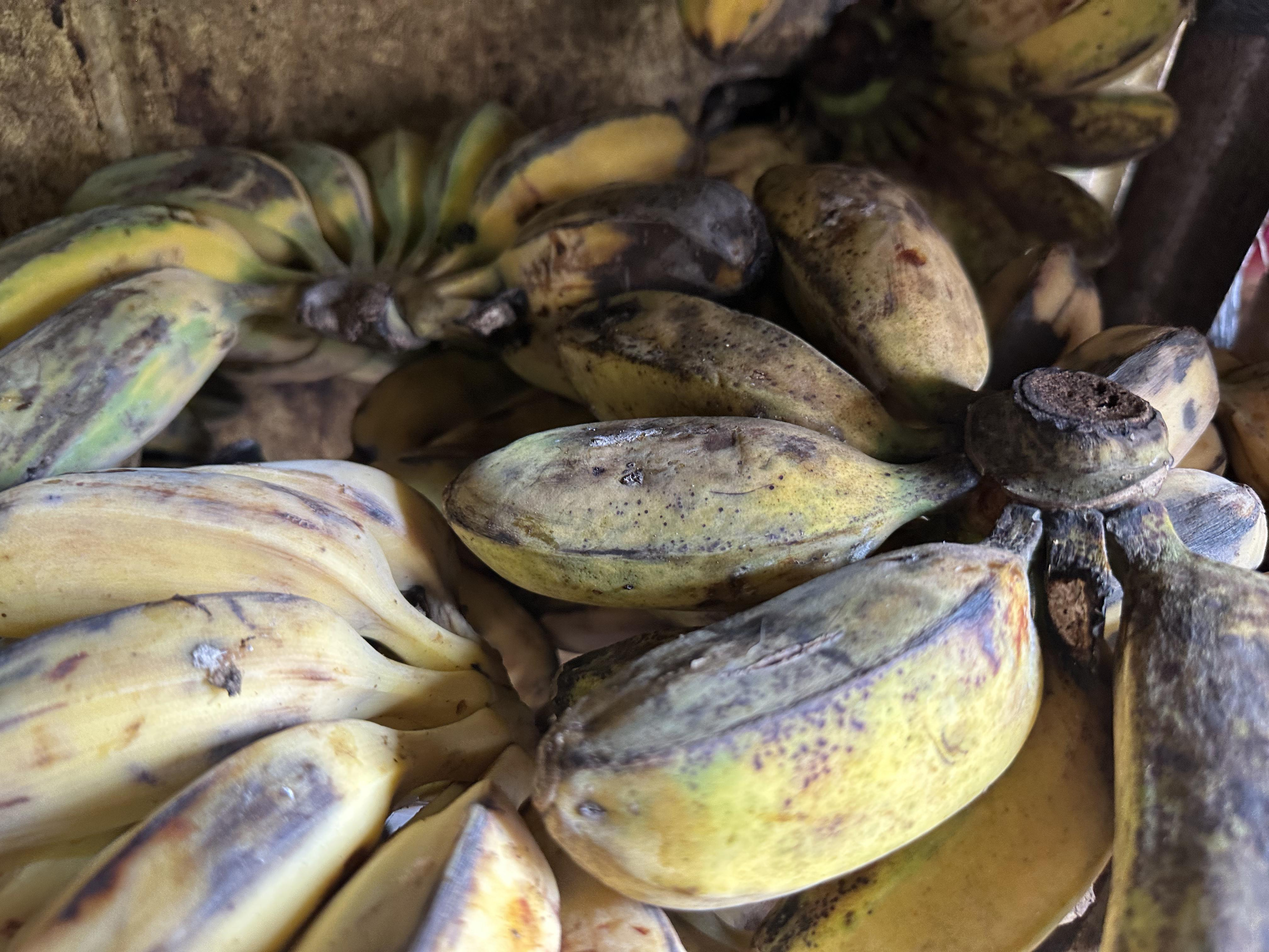ripe: (445, 165, 1269, 952), (0, 460, 683, 952)
underripe: (1, 103, 773, 487), (898, 0, 1190, 284)
